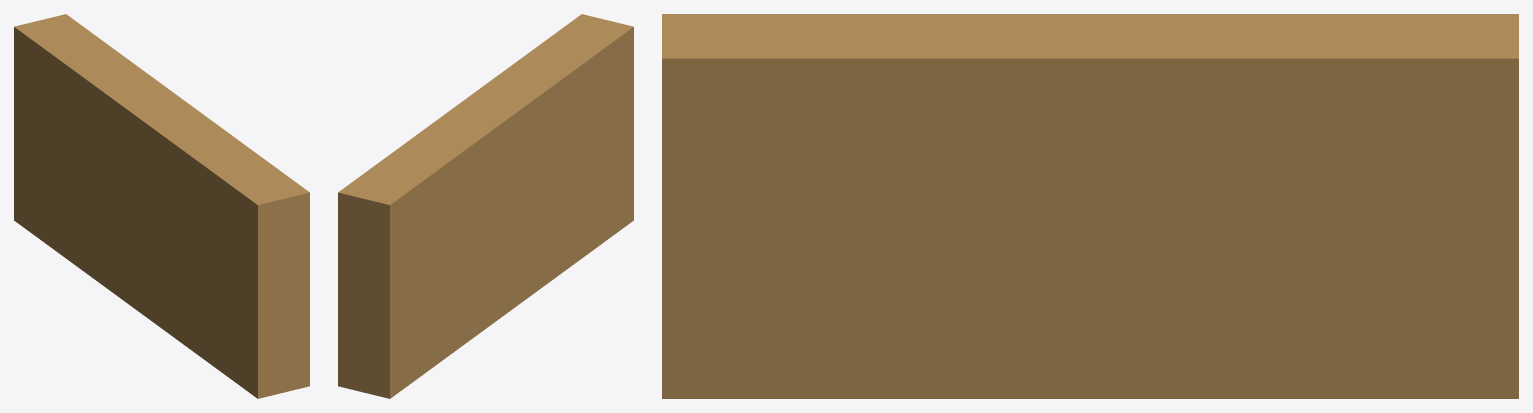
3 renders of one model, left to right at view 1: azimuth 30°, elevation 25°; view 2: azimuth 150°, elevation 25°; view 3: azimuth 270°, elevation 25°, orthographic. The views are drawn at different scales.
Visible parts, largest first — view 1: GAP-54-ENVELOPE; view 2: GAP-54-ENVELOPE; view 3: GAP-54-ENVELOPE.
Part boxes in pixels (bbox=[...]): GAP-54-ENVELOPE: bbox=[14, 14, 309, 398]; GAP-54-ENVELOPE: bbox=[338, 14, 633, 398]; GAP-54-ENVELOPE: bbox=[662, 14, 1518, 398].
Size of the model in its own units: 0.09 by 0.32 by 0.73.
